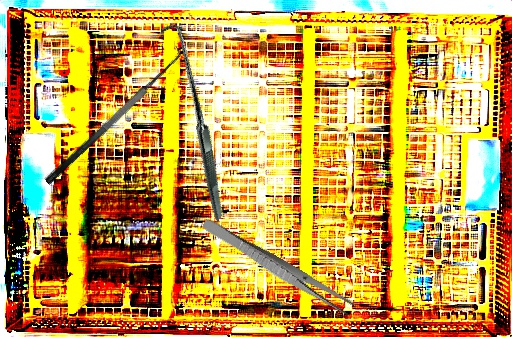Dressing Forceps: (198, 216, 357, 318)
Hook Surgical: (93, 20, 291, 224)
Spatula Surgical: (33, 41, 190, 187)
